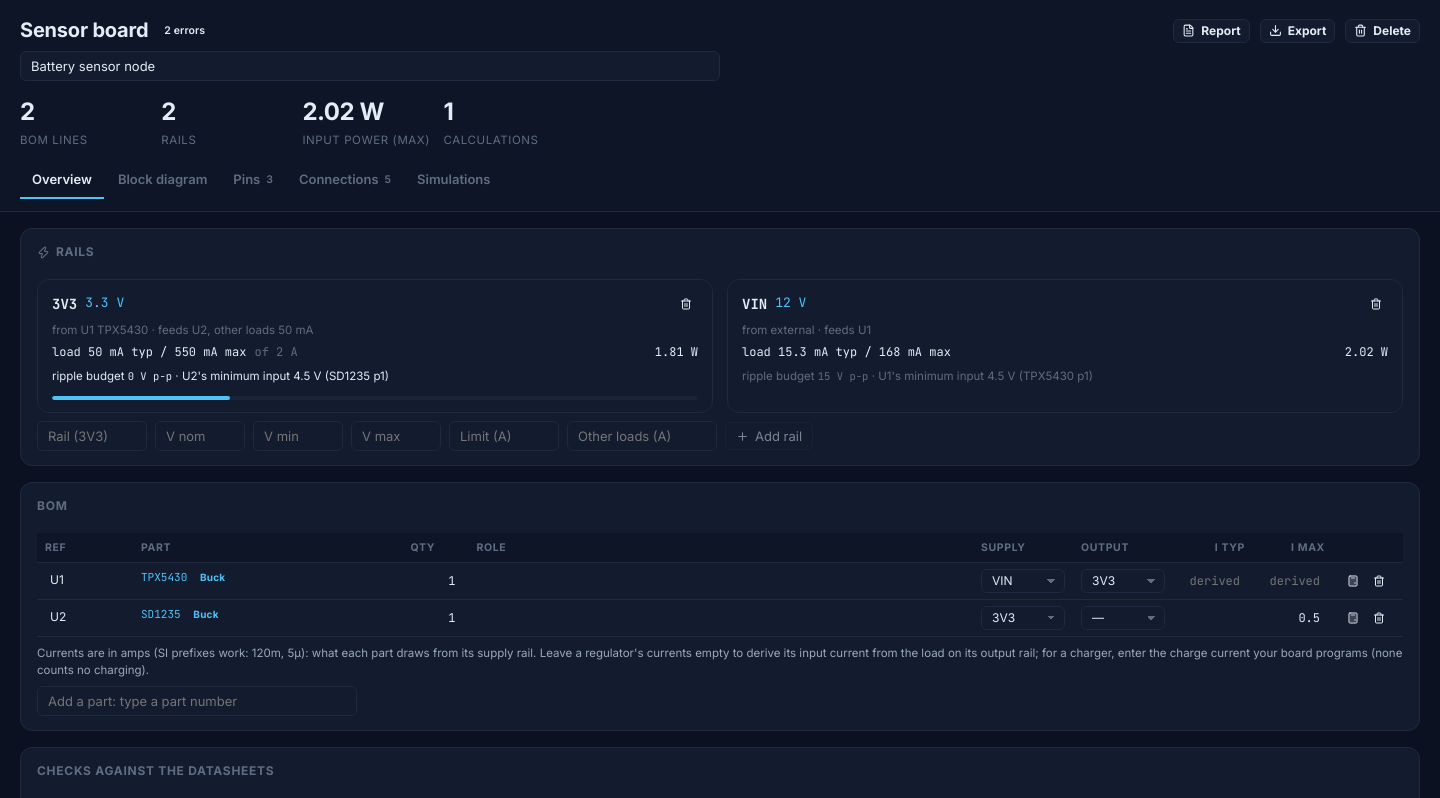
Scenario: rail loads and ripple › edits a rail with its other loads
Expected: the heading "Sensor board 2 errors Report Export Delete" is shown, left=20, top=16, right=1420, bottom=45
Step 1. Click the text "other loads 50 mA" → (375, 346), box left=37, top=279, right=713, bottom=413
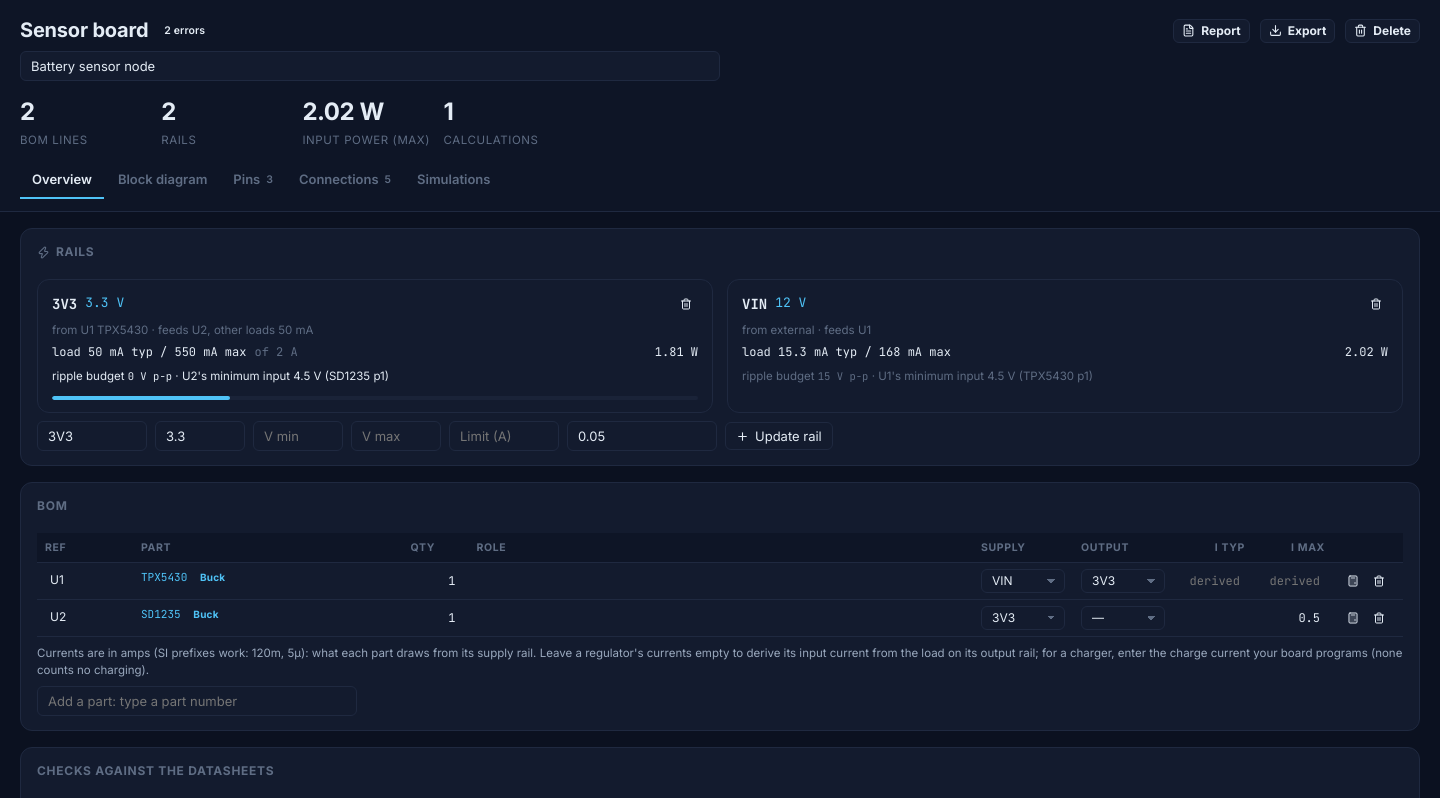
Result: the field with placeholder "Other loads (A)" holds "0.05" at left=567, top=421, right=717, bottom=451
Result: the button "Update rail" is shown at left=725, top=422, right=833, bottom=450
